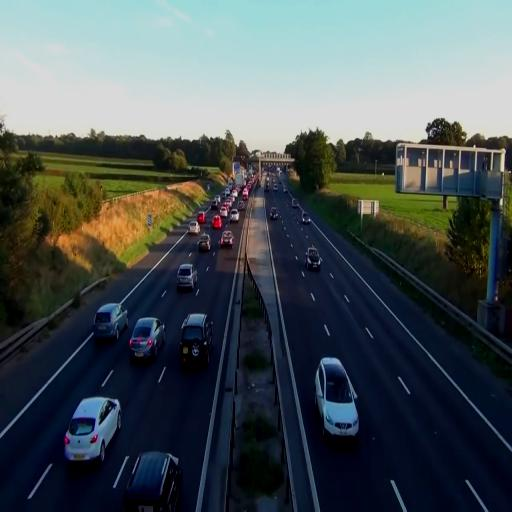vehicle: (314, 356, 360, 447), (64, 396, 122, 464), (124, 450, 182, 511), (128, 316, 166, 362), (180, 314, 210, 368), (93, 302, 127, 342), (176, 262, 198, 293), (304, 246, 322, 271), (220, 227, 234, 248), (198, 232, 211, 253), (229, 206, 240, 224), (269, 208, 279, 221), (300, 212, 309, 224), (272, 208, 280, 219)
